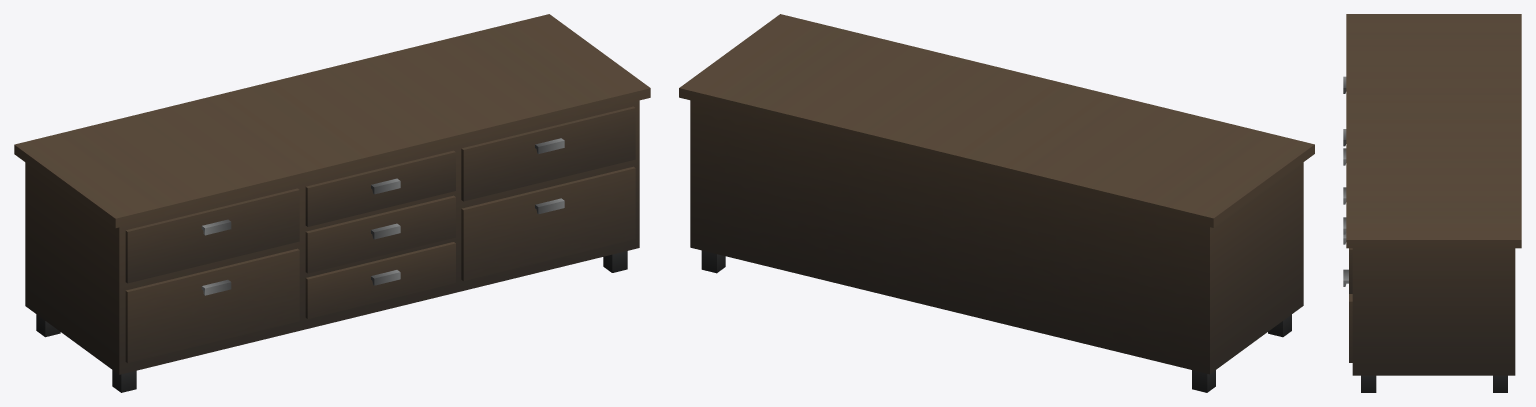
File: SideboardCabinet_B_Brown.fbx
3 renders of one model, left to right at view 1: azimuth 30°, elevation 25°; view 2: azimuth 150°, elevation 25°; view 3: azimuth 270°, elevation 25°, orthographic. The views are drawn at different scales.
Visible parts, largest first — view 1: SideboardCabinet_B_Brown; view 2: SideboardCabinet_B_Brown; view 3: SideboardCabinet_B_Brown.
Boxes of the visible parts, x1=… form: SideboardCabinet_B_Brown: x1=14, y1=14, x2=650, y2=392; SideboardCabinet_B_Brown: x1=679, y1=14, x2=1314, y2=392; SideboardCabinet_B_Brown: x1=1343, y1=14, x2=1521, y2=392.
Bounding box in the file's own units: 244 × 80.14 × 81.41.
